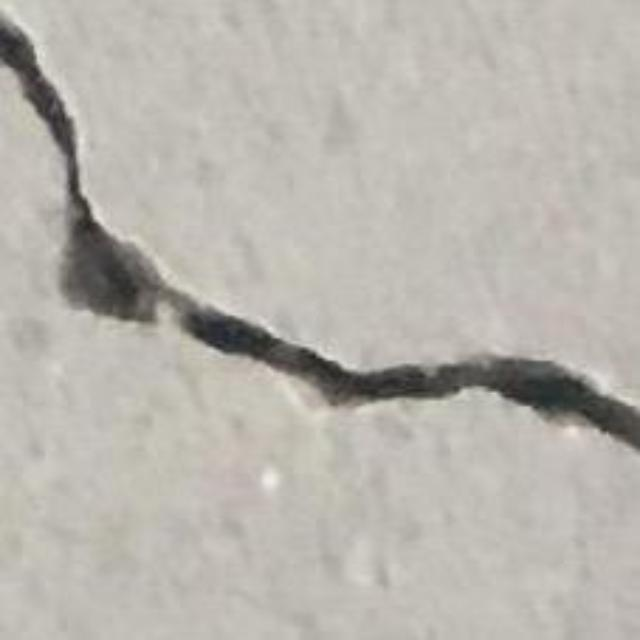crack: (0, 15, 639, 451)
